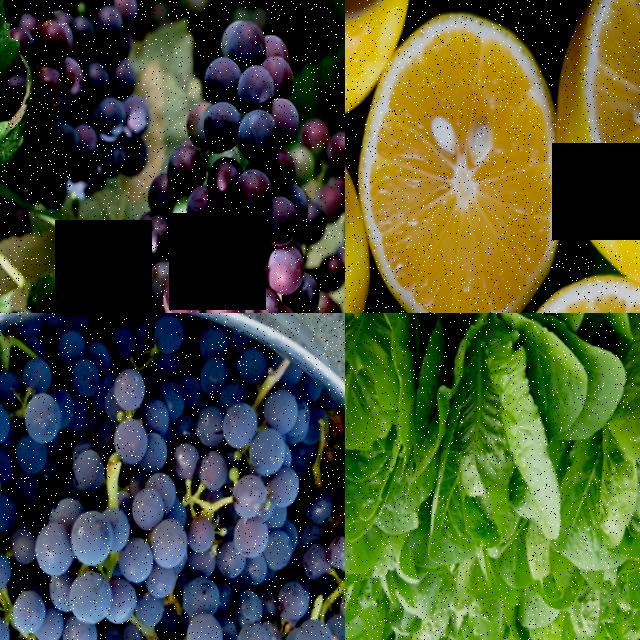grapes: (112, 0, 334, 313), (3, 452, 192, 640), (30, 0, 157, 214), (187, 469, 345, 640)
lemon: (356, 10, 563, 313), (554, 0, 640, 272)
lettuce: (425, 313, 605, 558), (345, 313, 433, 537), (521, 561, 634, 640)
